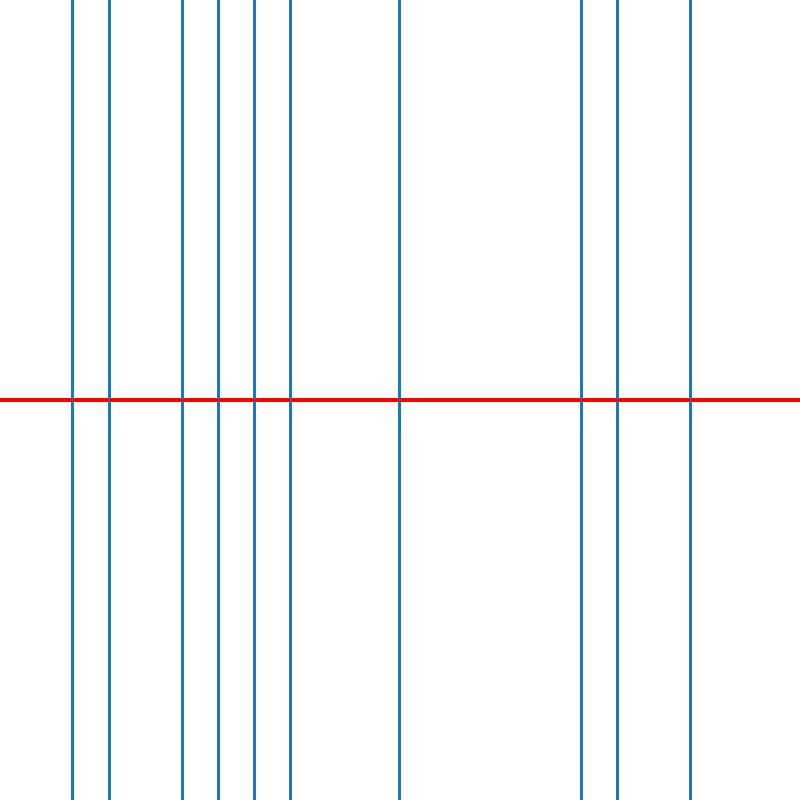root: (250, 396, 258, 404), (105, 396, 112, 404), (396, 396, 403, 404), (687, 396, 694, 404), (69, 396, 76, 404), (614, 396, 621, 404), (214, 396, 221, 404), (178, 396, 185, 404), (287, 396, 294, 404), (578, 396, 585, 404)
